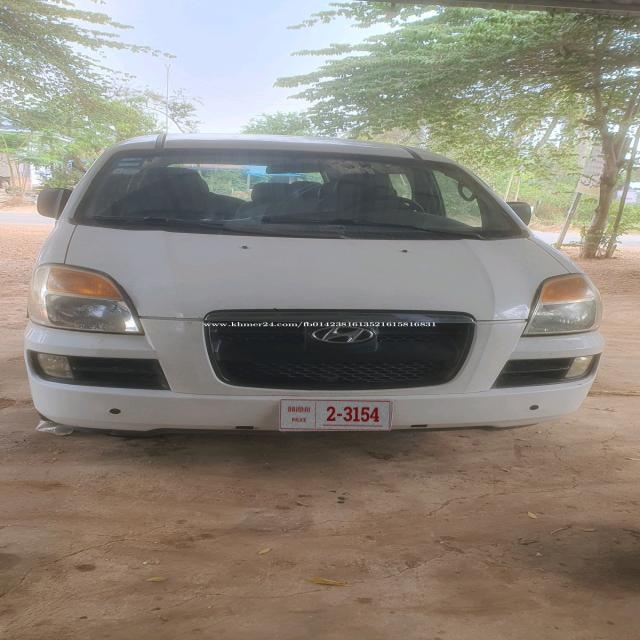Plate Number: (279, 399, 392, 432)
